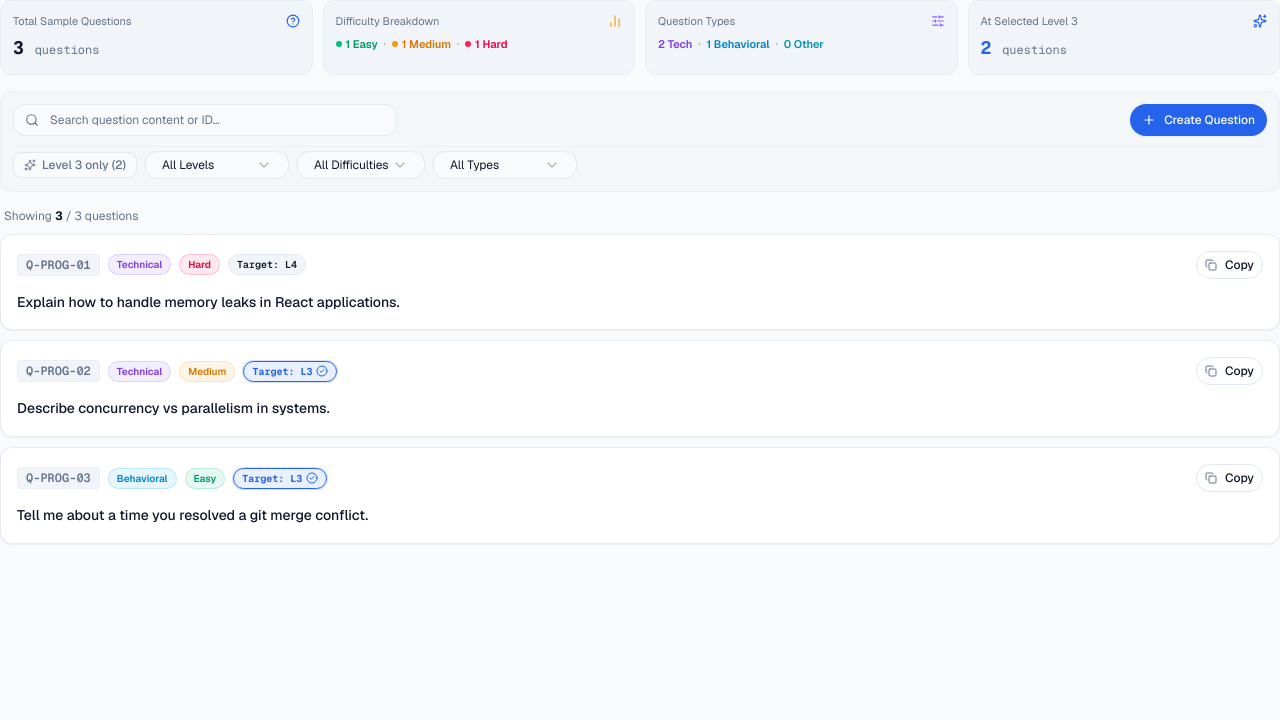
Test case: SfiaQuestionBankTab › filters questions by search query text
In the field with placeholder "Search question content or ID...": (205, 120) [13, 104, 397, 136], type "memory leaks"
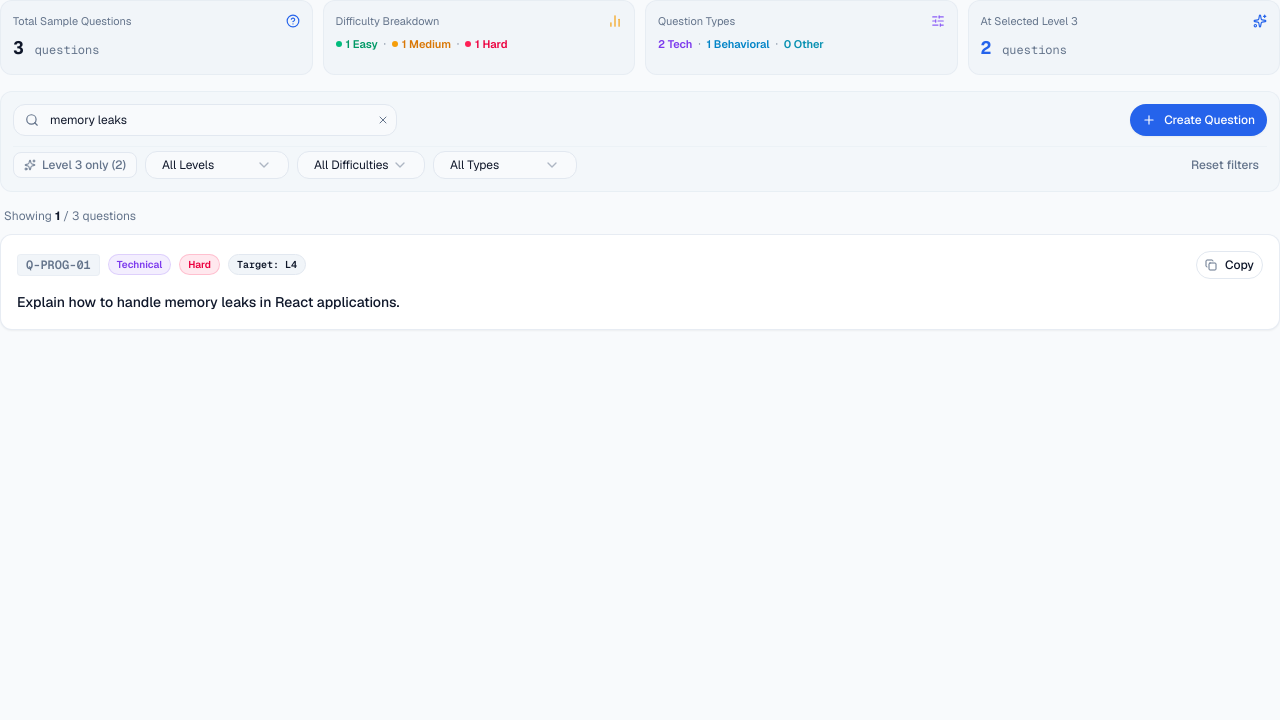
Expected: the text "Explain how to handle memory leaks in React applications." is shown, [17, 292, 400, 310]
Now the text "Describe concurrency vs parallelism in systems." is gone
